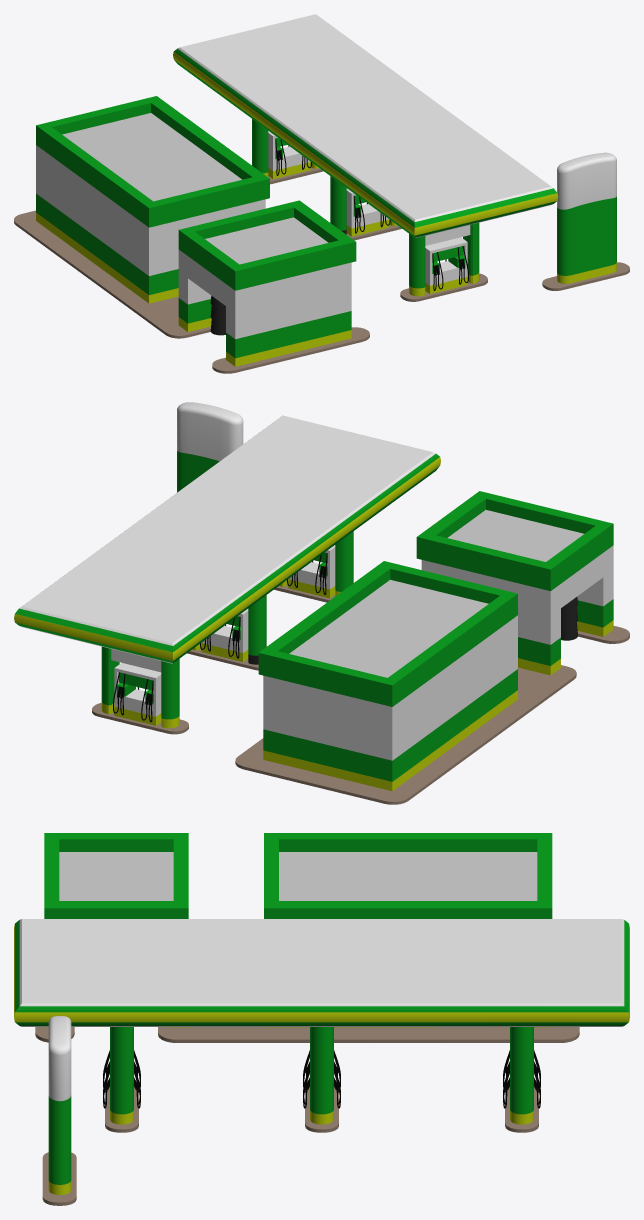
File: SM_Building_GasStation.fbx
3 renders of one model, top to bottom at view 1: azimuth 30°, elevation 25°; view 2: azimuth 150°, elevation 25°; view 3: azimuth 270°, elevation 25°, orthographic. The views are drawn at different scales.
Visible parts, largest first — view 1: PublicBuilding_GasStation; view 2: PublicBuilding_GasStation; view 3: PublicBuilding_GasStation.
Boxes of the visible parts, box(x1,y1,x2,y2) form: PublicBuilding_GasStation: box(14, 14, 629, 373); PublicBuilding_GasStation: box(14, 402, 629, 804); PublicBuilding_GasStation: box(14, 833, 629, 1205).
Size of the model in its own units: 1222 by 336 by 1232.
Materials: 1 (1 with a texture image).
